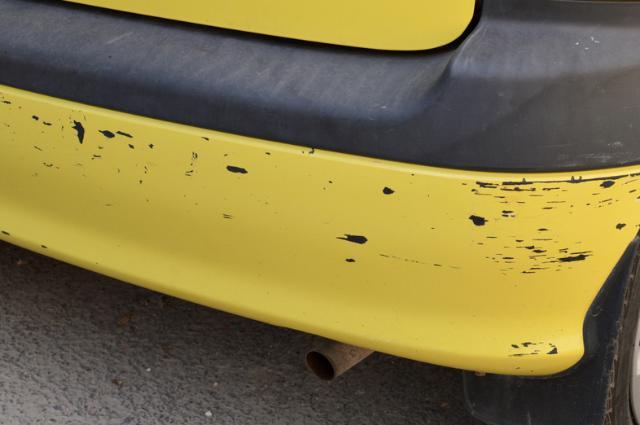Bumper: (0, 52, 640, 398)
